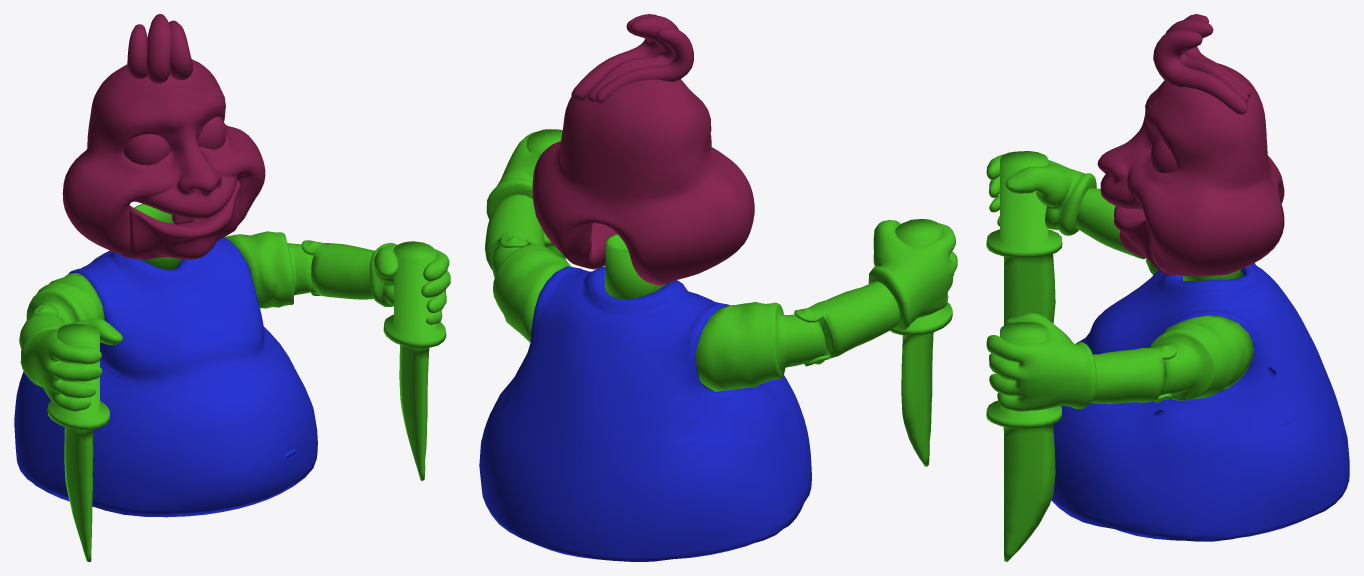
The model's file is KID_Final2.FBX.
3 views of the same model, side by side, from view 1: azimuth 30°, elevation 25°; view 2: azimuth 150°, elevation 25°; view 3: azimuth 270°, elevation 25° (orthographic). The views are drawn at different scales.
Parts seen in each view (by area): view 1: Object004; view 2: Object004; view 3: Object004.
Boxes of the visible parts, <box> form: Object004: <box>14,14,450,561</box>; Object004: <box>479,14,957,561</box>; Object004: <box>986,14,1349,561</box>.
Size of the model in its own units: 25.38 by 26.48 by 19.17.
